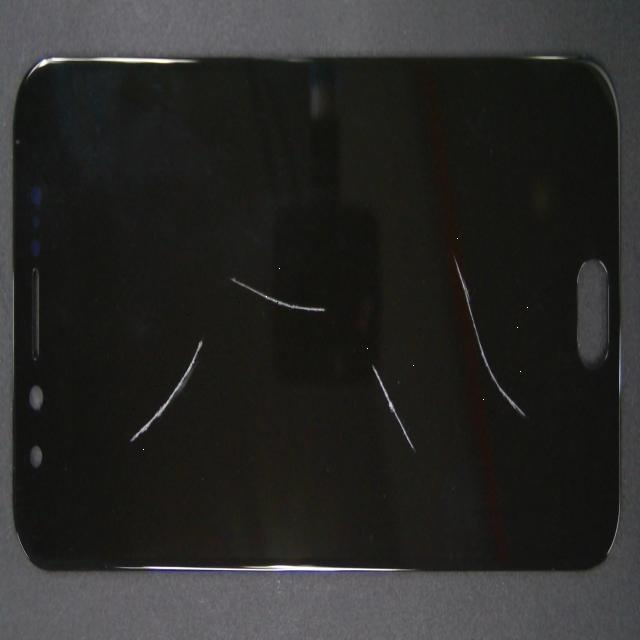scratch: (193, 82, 640, 514), (179, 194, 538, 583), (55, 136, 385, 469), (139, 107, 257, 537)
